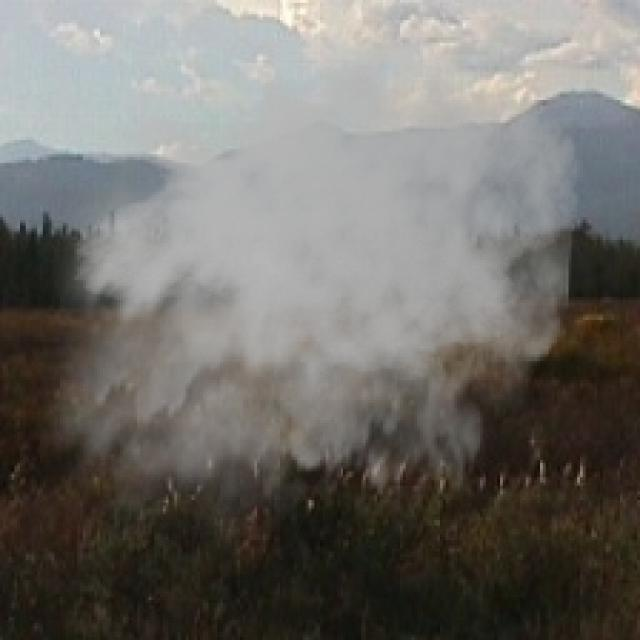smoke: (23, 26, 583, 554)
